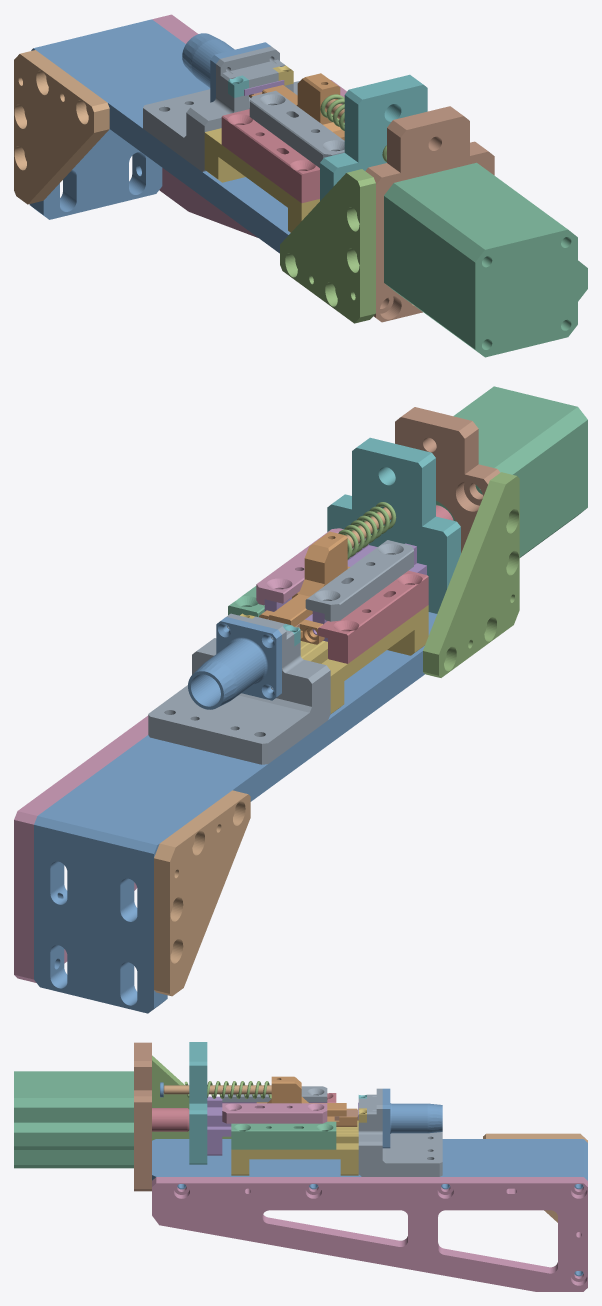
3 views of the same model, one above another, from view 1: azimuth 30°, elevation 25°; view 2: azimuth 150°, elevation 25°; view 3: azimuth 270°, elevation 25° (orthographic). The views are drawn at different scales.
Visible parts, largest first — view 1: solid_2_0, solid_0_0, solid_10_0, solid_11_0, solid_7_0, solid_8_0, solid_6_0, solid_15_0, solid_20_0, solid_5_0, solid_9_0, solid_12_0 (+2 smaller); view 2: solid_0_0, solid_2_0, solid_8_0, solid_10_0, solid_11_0, solid_6_0, solid_7_0, solid_12_0, solid_9_0, solid_15_0, solid_20_0, solid_5_0 (+4 smaller); view 3: solid_9_0, solid_2_0, solid_0_0, solid_8_0, solid_14_0, solid_7_0, solid_5_0, solid_6_0, solid_21_0, solid_12_0, solid_10_0, solid_1_0 (+6 smaller).
Boxes of the visible parts, <box> form: solid_2_0: <box>384,162,587,357</box>; solid_0_0: <box>29,19,290,253</box>; solid_10_0: <box>280,169,375,323</box>; solid_11_0: <box>14,50,109,204</box>; solid_7_0: <box>365,106,494,322</box>; solid_8_0: <box>143,46,299,171</box>; solid_6_0: <box>320,74,427,200</box>; solid_15_0: <box>221,109,319,203</box>; solid_20_0: <box>249,90,344,167</box>; solid_5_0: <box>204,128,319,232</box>; solid_9_0: <box>152,14,257,237</box>; solid_12_0: <box>182,33,270,102</box>; solid_0_0: <box>34,612,437,1013</box>; solid_2_0: <box>436,386,587,557</box>; solid_8_0: <box>148,613,330,764</box>; solid_10_0: <box>423,472,519,677</box>; solid_11_0: <box>154,790,250,996</box>; solid_6_0: <box>327,437,460,613</box>; solid_7_0: <box>395,407,500,552</box>; solid_12_0: <box>188,617,281,709</box>; solid_9_0: <box>14,715,148,982</box>; solid_15_0: <box>318,570,428,663</box>; solid_20_0: <box>305,540,413,621</box>; solid_5_0: <box>300,605,428,714</box>; solid_9_0: <box>152,1177,587,1291</box>; solid_2_0: <box>14,1071,133,1168</box>; solid_0_0: <box>152,1139,587,1276</box>; solid_8_0: <box>358,1088,442,1176</box>; solid_14_0: <box>231,1121,336,1149</box>; solid_7_0: <box>134,1042,151,1191</box>; solid_5_0: <box>231,1120,358,1175</box>; solid_6_0: <box>189,1042,207,1164</box>; solid_21_0: <box>222,1103,327,1123</box>; solid_12_0: <box>382,1088,442,1148</box>; solid_10_0: <box>152,1055,231,1140</box>; solid_1_0: <box>256,1076,346,1116</box>.
Size of the model in its own units: 78 by 158 by 383.
